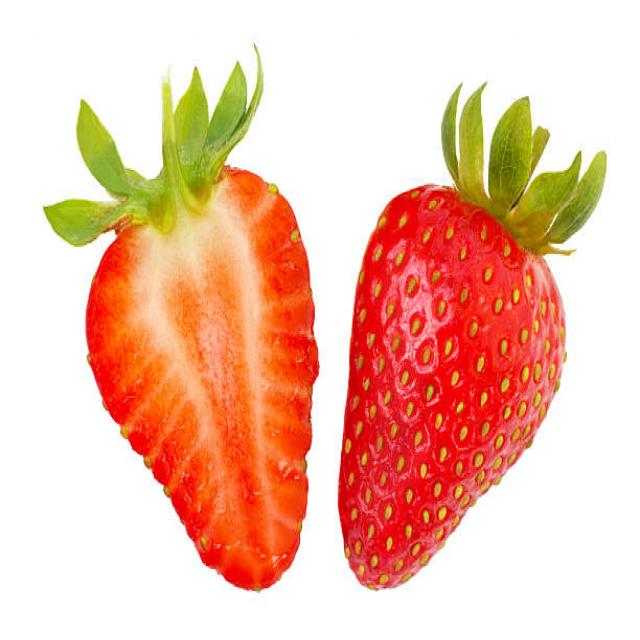Berries strawberries/blueberries: (81, 164, 320, 594), (339, 171, 568, 593)
